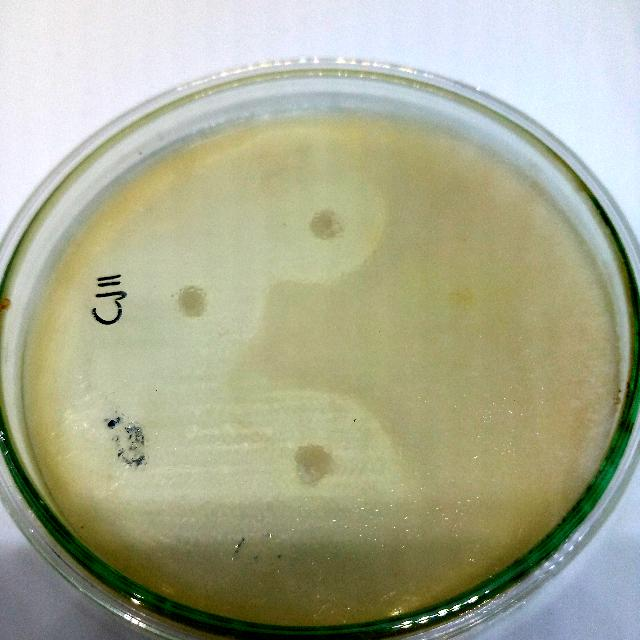colony: (288, 440, 340, 486), (172, 282, 214, 322), (304, 204, 346, 243)
